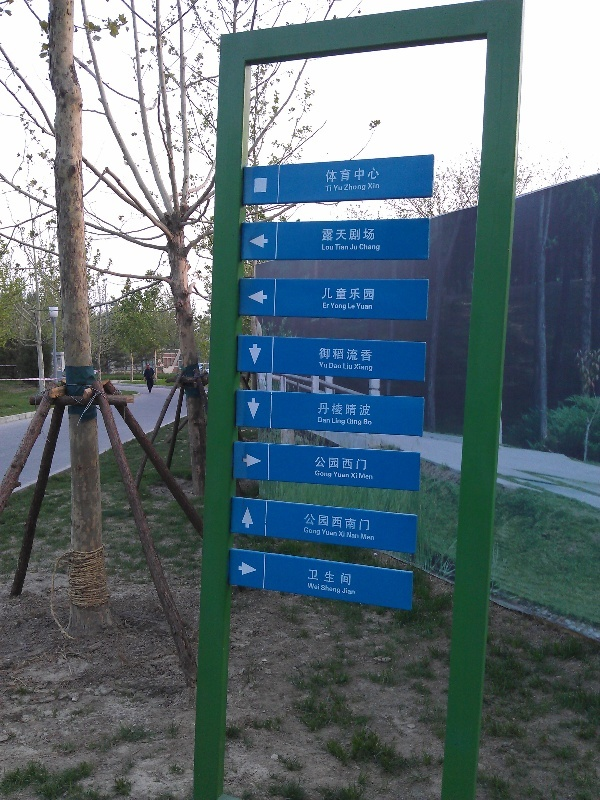text: (321, 513, 336, 532), (337, 513, 352, 532), (353, 513, 368, 532), (337, 569, 353, 586), (306, 513, 320, 532), (337, 167, 352, 184), (353, 167, 368, 184), (321, 455, 336, 472), (337, 455, 352, 472), (353, 455, 368, 472), (321, 569, 336, 586), (321, 402, 336, 418), (337, 402, 352, 418), (353, 402, 368, 418), (337, 228, 352, 242), (353, 228, 368, 242), (321, 348, 336, 362), (337, 348, 352, 362), (353, 348, 368, 362), (369, 167, 381, 184), (322, 228, 336, 242), (337, 288, 352, 301), (353, 288, 368, 301), (309, 569, 320, 586), (322, 288, 336, 301), (326, 167, 336, 184), (305, 527, 321, 536), (322, 585, 336, 595), (355, 364, 368, 373), (322, 529, 336, 537), (353, 184, 366, 192), (337, 471, 350, 479), (369, 228, 376, 242), (322, 244, 336, 251), (308, 583, 320, 591), (369, 244, 381, 252), (339, 531, 352, 538), (353, 418, 363, 427), (321, 470, 332, 478), (315, 455, 320, 472), (337, 244, 349, 251), (356, 303, 368, 310), (337, 303, 347, 311), (369, 288, 375, 301), (323, 303, 336, 309), (325, 185, 336, 192), (369, 183, 380, 190), (337, 418, 346, 426), (343, 588, 352, 596), (321, 417, 331, 424), (344, 184, 352, 192), (360, 244, 368, 252), (343, 363, 352, 370), (369, 348, 373, 362), (359, 474, 368, 480), (337, 585, 342, 595), (321, 362, 328, 369), (329, 363, 336, 370), (353, 532, 360, 539), (361, 534, 368, 541), (369, 534, 376, 541), (369, 402, 372, 418), (369, 364, 374, 373), (347, 418, 352, 427), (337, 185, 343, 192), (315, 470, 320, 478), (331, 303, 336, 311), (369, 513, 371, 532), (337, 363, 342, 370), (347, 532, 352, 539), (318, 402, 320, 418), (332, 418, 336, 426), (353, 244, 358, 250), (353, 473, 358, 479), (369, 474, 374, 480), (348, 303, 352, 310), (369, 303, 373, 310), (364, 419, 368, 426), (369, 419, 373, 426), (353, 588, 356, 596), (334, 471, 336, 479), (318, 417, 320, 424), (334, 185, 336, 192), (353, 303, 355, 310), (350, 244, 352, 250), (337, 529, 338, 537), (319, 362, 320, 369), (335, 244, 336, 251), (351, 473, 352, 479)
